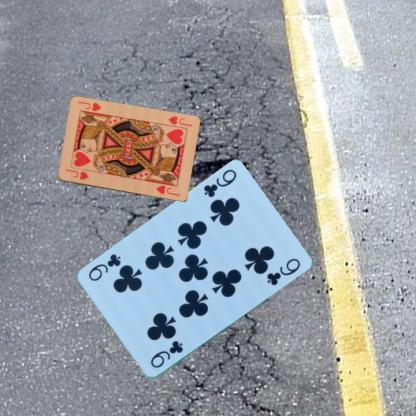9c: (201, 167, 238, 199), (148, 338, 184, 370)
Jh: (162, 114, 193, 130), (63, 166, 90, 181)
